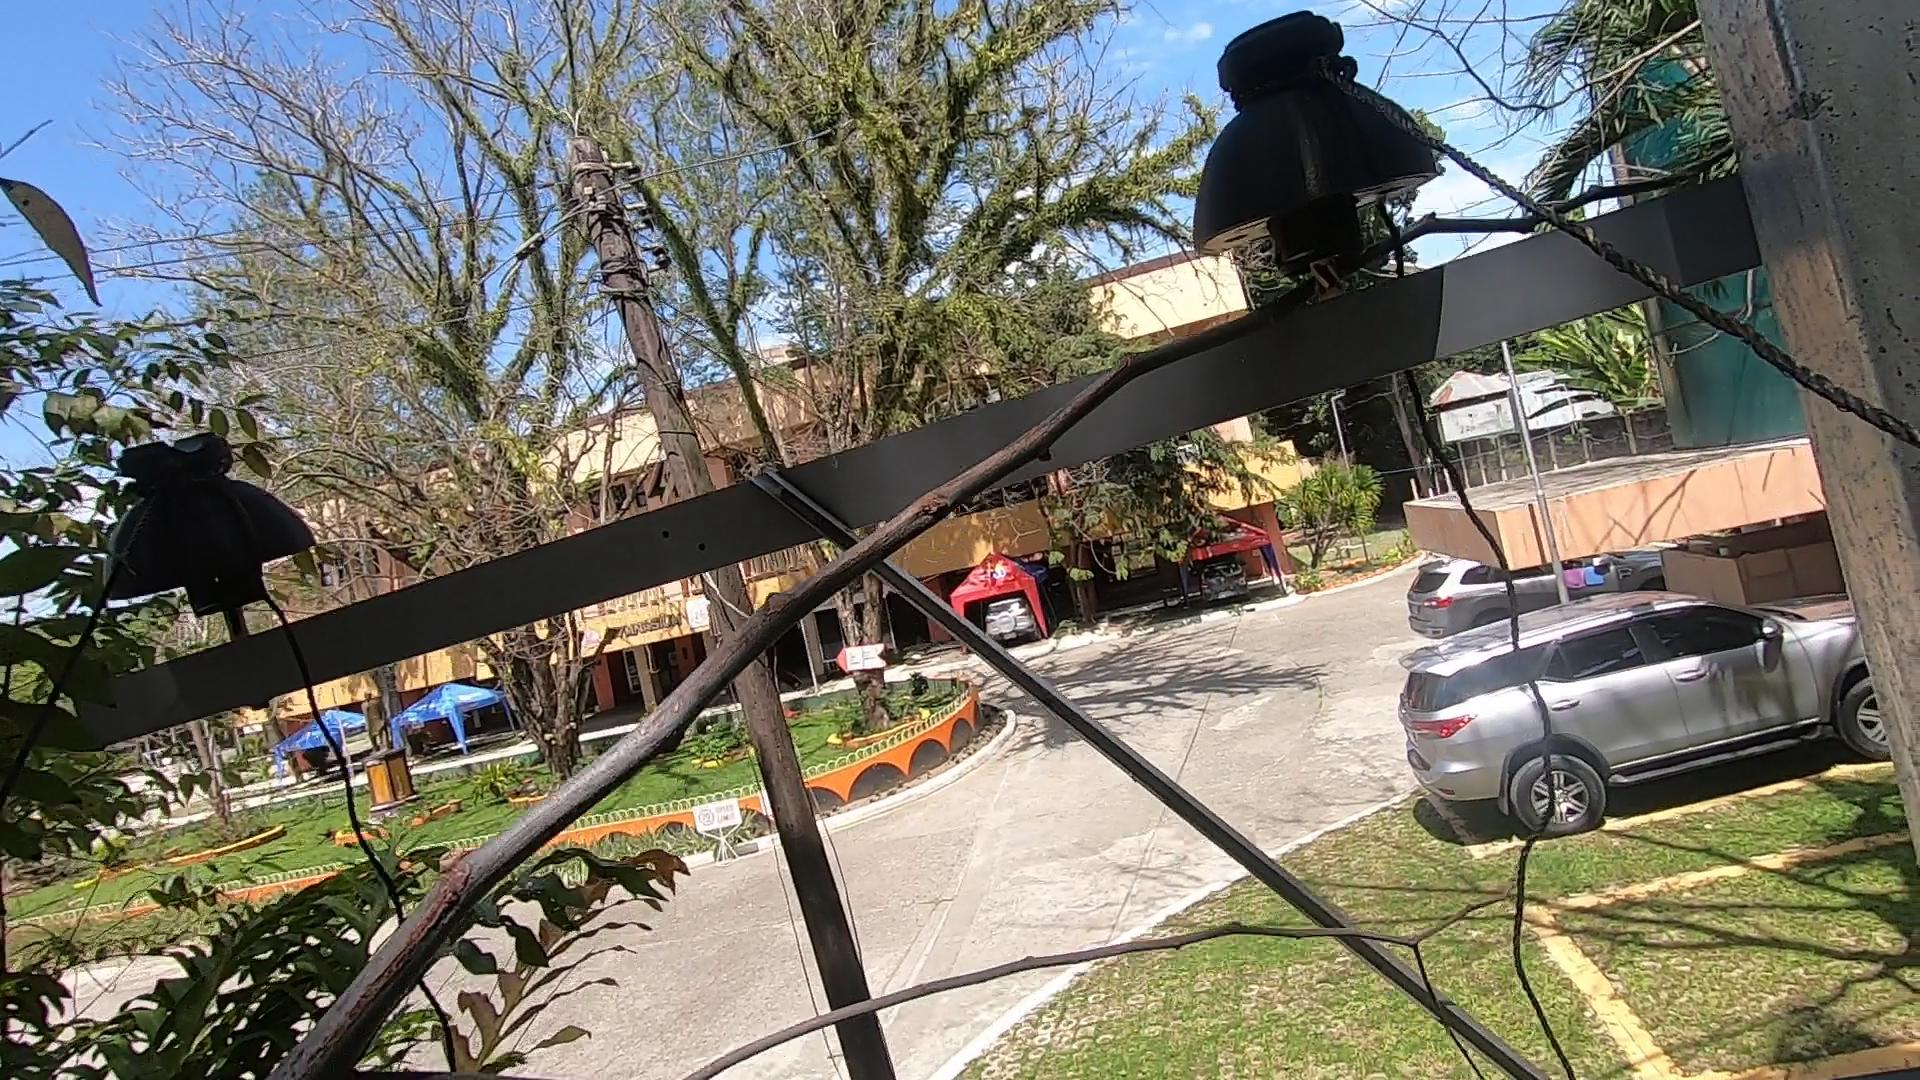tree branch: (255, 69, 1789, 1064)
